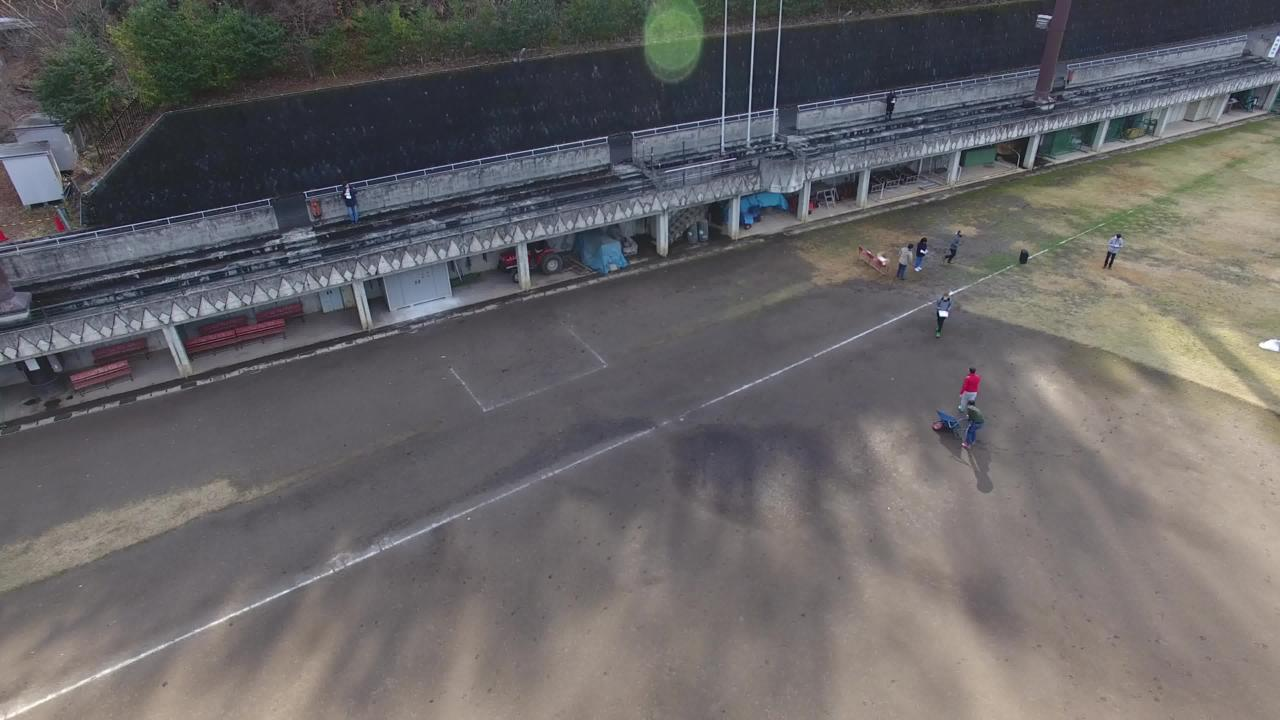person: (324, 173, 368, 233), (904, 213, 948, 273), (873, 231, 917, 291), (933, 211, 977, 271), (860, 78, 904, 138), (1087, 213, 1131, 273), (920, 284, 964, 344), (954, 392, 998, 452), (947, 347, 991, 407)
